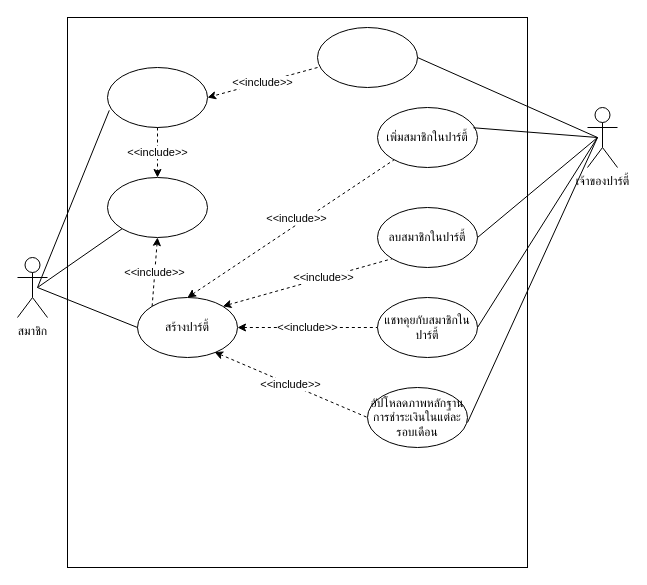
Some shapes in this 647 by 585 pixel diagram are drawn without their labels. Each missing label, with the box of its shape:
ขอเข้าร่วมปาร์ตี้: (106, 66, 208, 128)
อนุมัติ หรือ ปฏิเสธ การขอเข้าร่วม: (316, 26, 418, 88)
เข้าสู่ระบบ: (106, 176, 208, 238)
